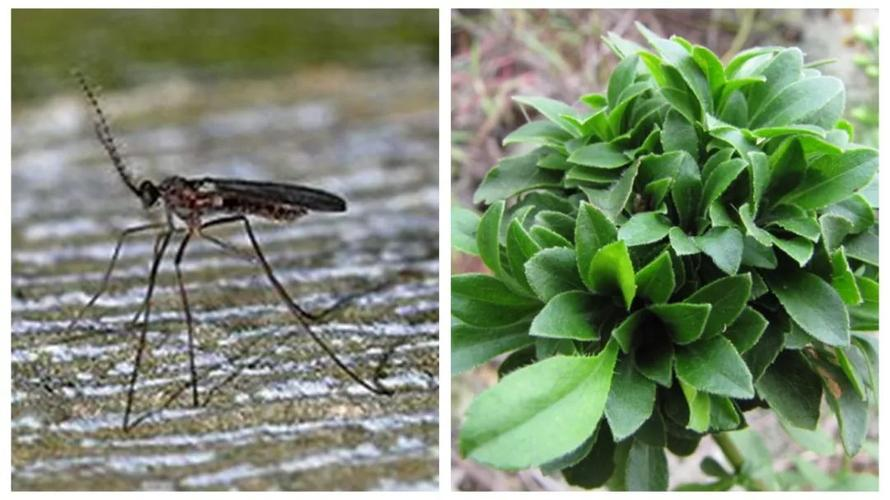Cecidomyiidae: (59, 67, 391, 413)
